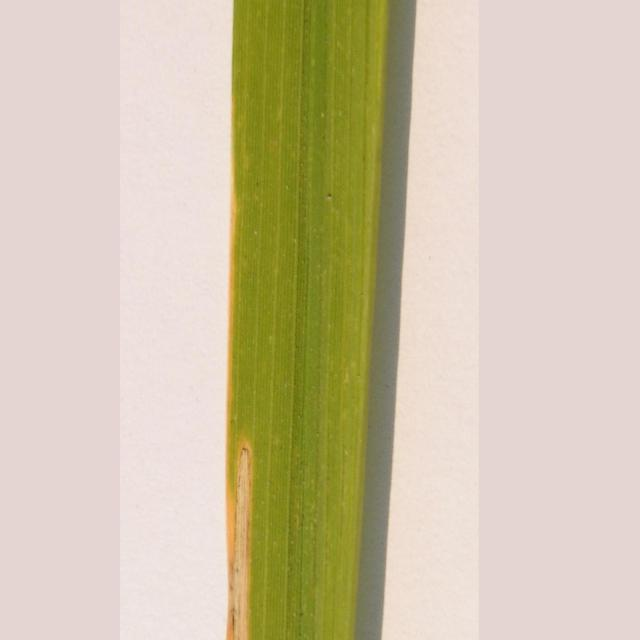leaf blight: (211, 166, 288, 640)
